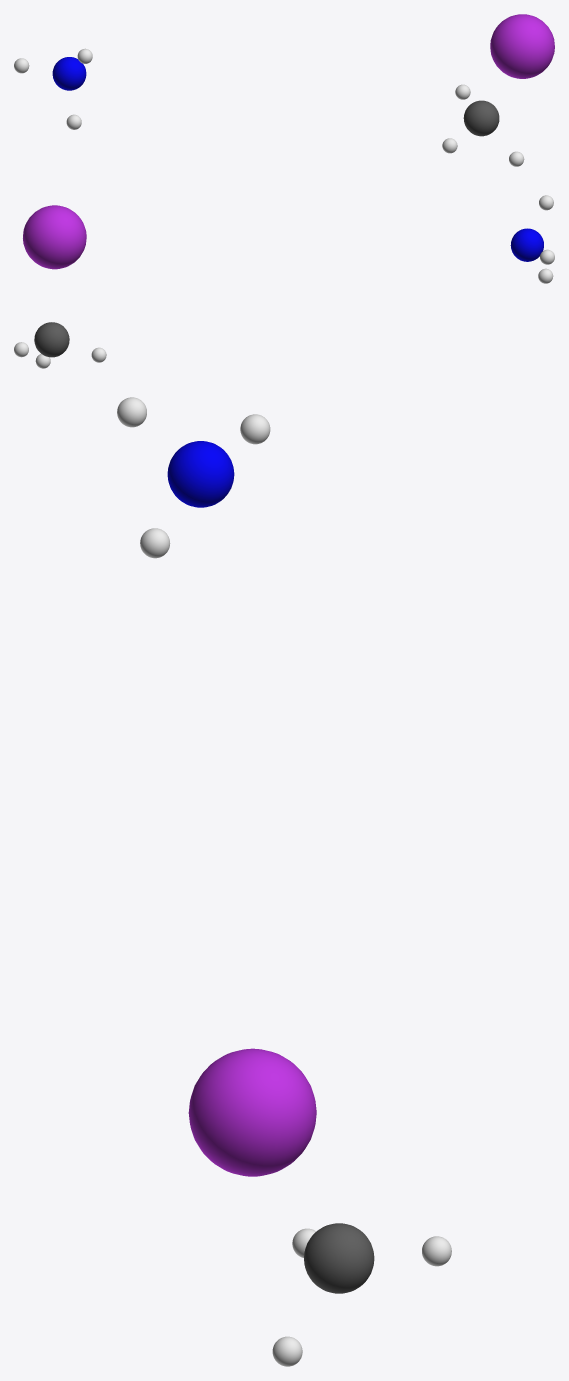
File: Nitrogen_Methyl_Iodine.fbx
3 views of the same model, one above another, from view 1: azimuth 30°, elevation 25°; view 2: azimuth 150°, elevation 25°; view 3: azimuth 270°, elevation 25° (orthographic). The views are drawn at different scales.
Visible parts, largest first — view 1: I09, C05, N01; view 2: I09, C05, N01; view 3: I09, C05, N01.
Boxes of the visible parts, bbox=[...] form: I09: bbox=[490, 14, 554, 78]; C05: bbox=[463, 100, 499, 136]; N01: bbox=[52, 57, 86, 90]; I09: bbox=[23, 205, 86, 269]; C05: bbox=[34, 322, 69, 357]; N01: bbox=[510, 228, 543, 261]; I09: bbox=[188, 1048, 316, 1176]; C05: bbox=[304, 1223, 374, 1293]; N01: bbox=[167, 441, 234, 507].
Bounding box in the file's own units: 1294 × 602 × 356.
